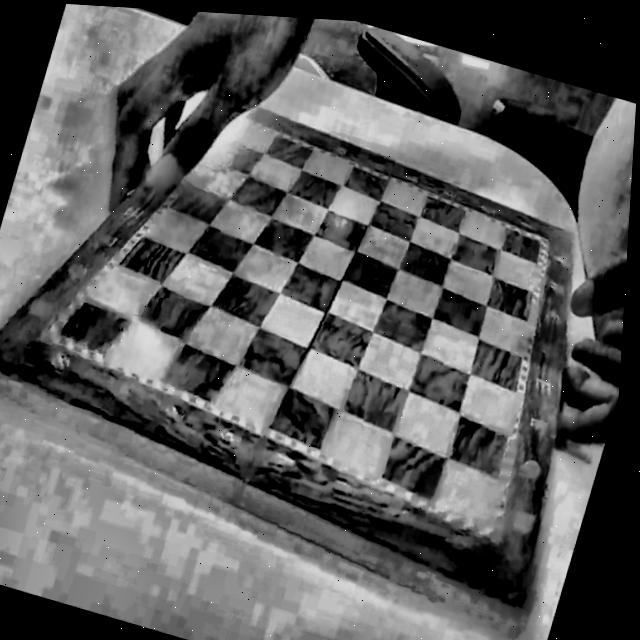chessboard: (0, 90, 573, 612)
